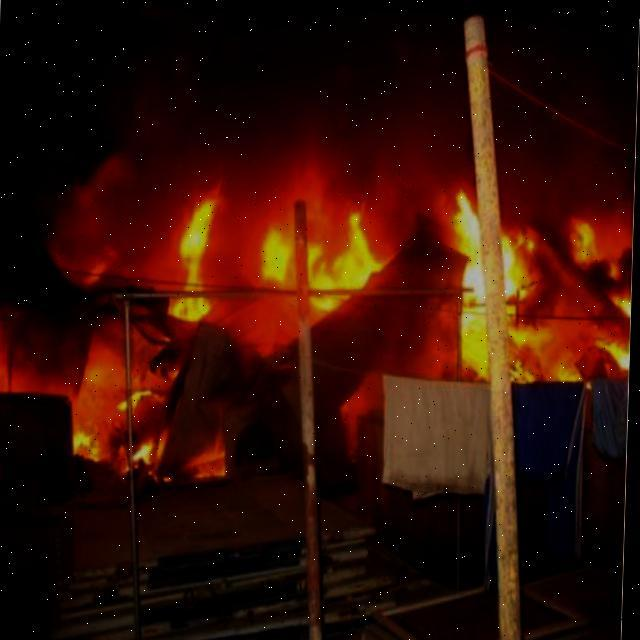Fire: (442, 185, 634, 383), (252, 186, 391, 310), (66, 362, 170, 477), (158, 185, 220, 328)
